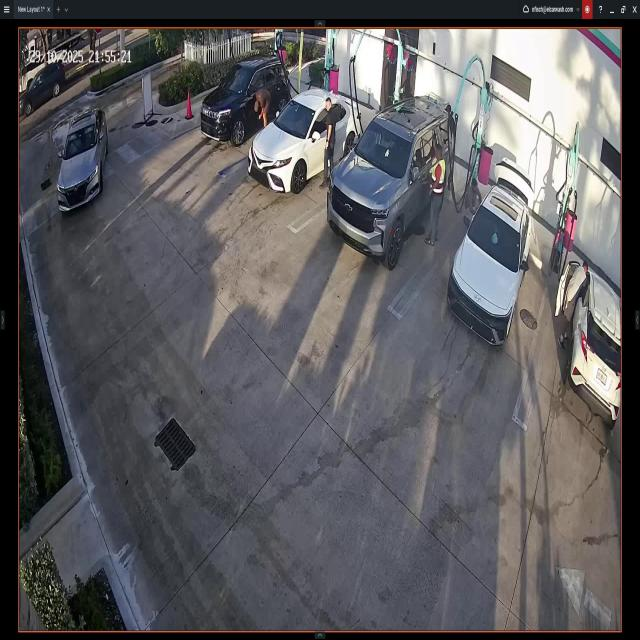Car: (329, 96, 448, 266), (448, 158, 532, 352), (250, 96, 362, 206), (555, 262, 620, 425), (204, 58, 289, 154), (59, 109, 102, 202)
